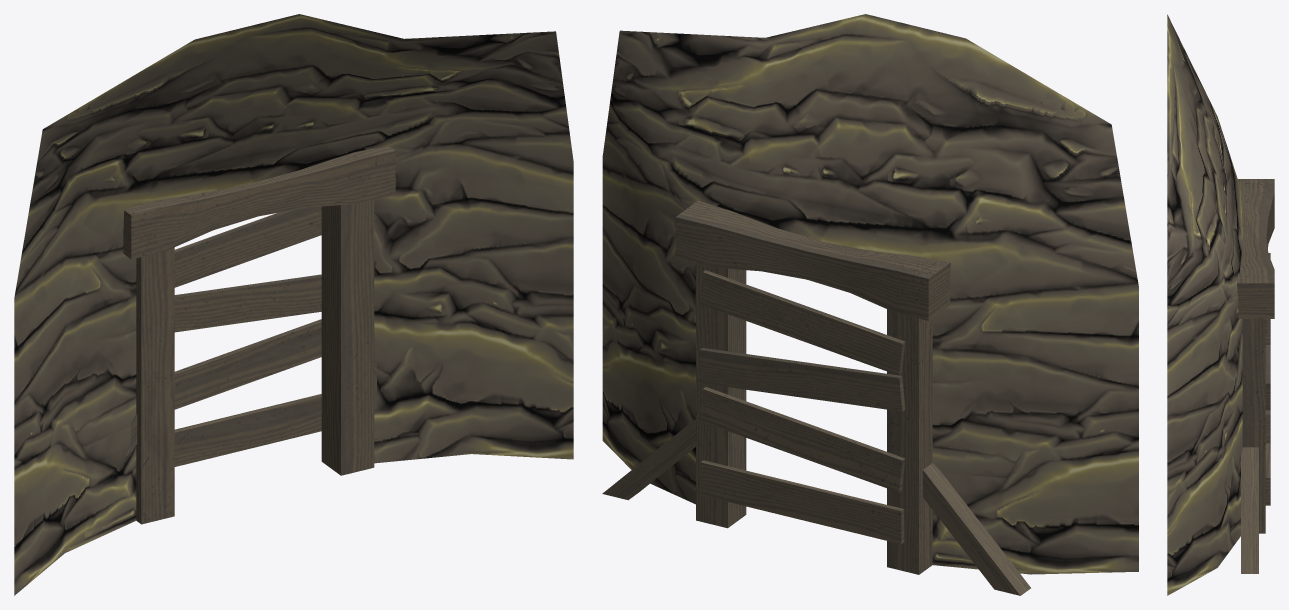
The model's file is Prop_HubShop_01.FBX.
The picture shows the model from 3 angles, left to right: view 1: azimuth 30°, elevation 25°; view 2: azimuth 150°, elevation 25°; view 3: azimuth 270°, elevation 25°; orthographic projection. The views are drawn at different scales.
Visible parts, largest first — view 1: Prop_HubShop_01, Prop_HubShop_01_Closed; view 2: Prop_HubShop_01, Prop_HubShop_01_Closed; view 3: Prop_HubShop_01, Prop_HubShop_01_Closed.
Part boxes in pixels (bbox=[...]): Prop_HubShop_01: bbox=[14, 14, 573, 595]; Prop_HubShop_01_Closed: bbox=[174, 206, 321, 466]; Prop_HubShop_01: bbox=[602, 14, 1138, 595]; Prop_HubShop_01_Closed: bbox=[699, 270, 905, 544]; Prop_HubShop_01: bbox=[1167, 14, 1274, 595]; Prop_HubShop_01_Closed: bbox=[1265, 253, 1270, 505].
Bounding box in the file's own units: 6.17 × 5.4 × 1.27.
